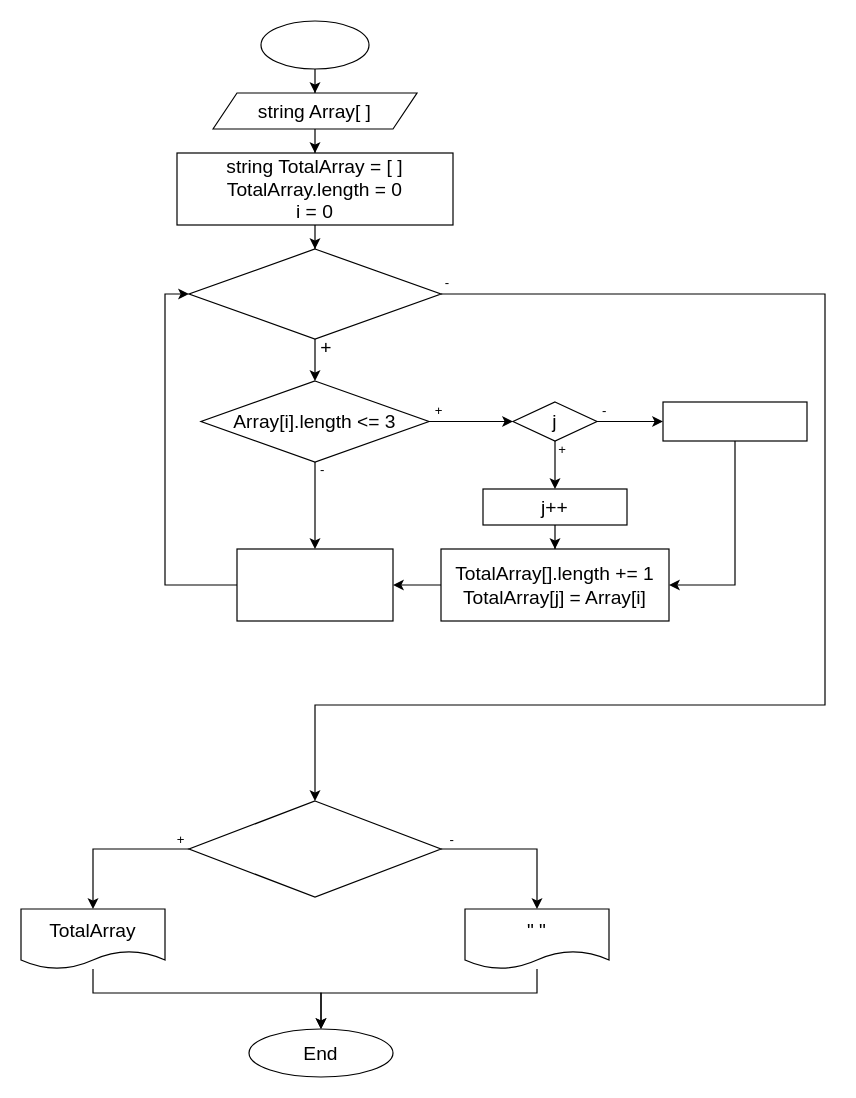
The diagram is 856 pixels wide and 1098 high, and some of its shapes have lost their labels. The shapes that lost their labels are listed below. From the top down, each one's centre as x and y in pixels, then its label:
At pixel 314 44: "Start".
At pixel 314 293: "i < Array.length".
At pixel 734 421: "j = 0".
At pixel 314 584: "i++".
At pixel 314 848: "TotalArray[].length > 0".
